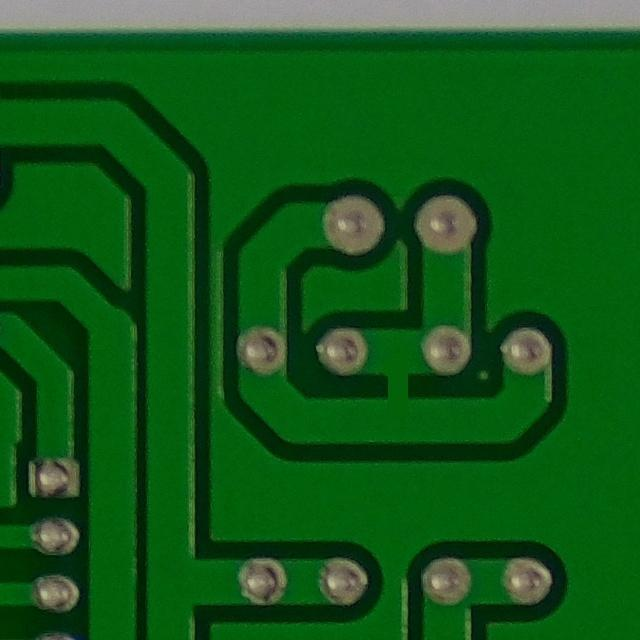short: (361, 356, 436, 423)
